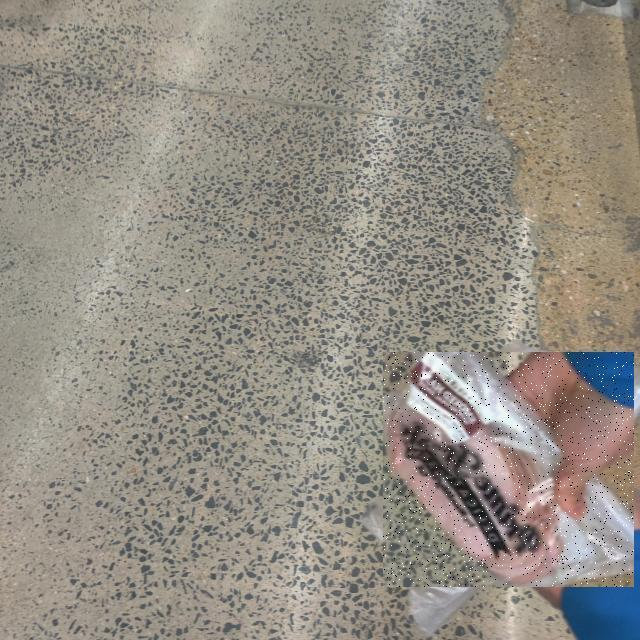Meat: (383, 352, 634, 587)
